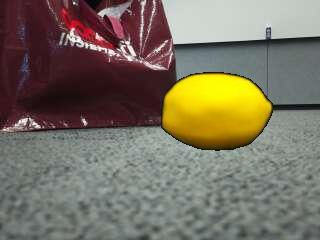lemon: (163, 73, 272, 148)
